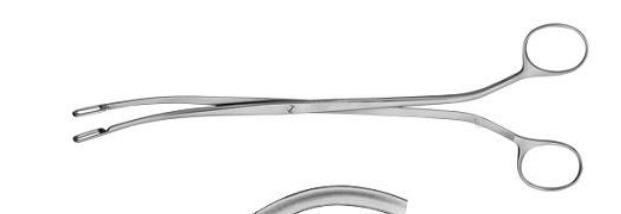Desjardin Forceps: (72, 19, 593, 195)
